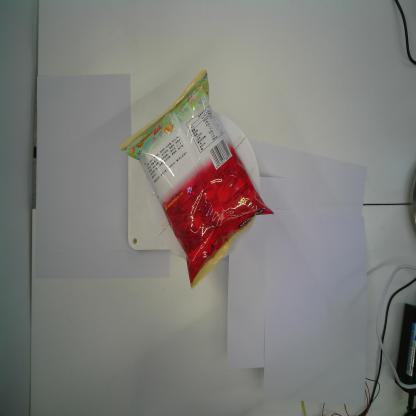Puffed Food: (119, 68, 274, 290)
